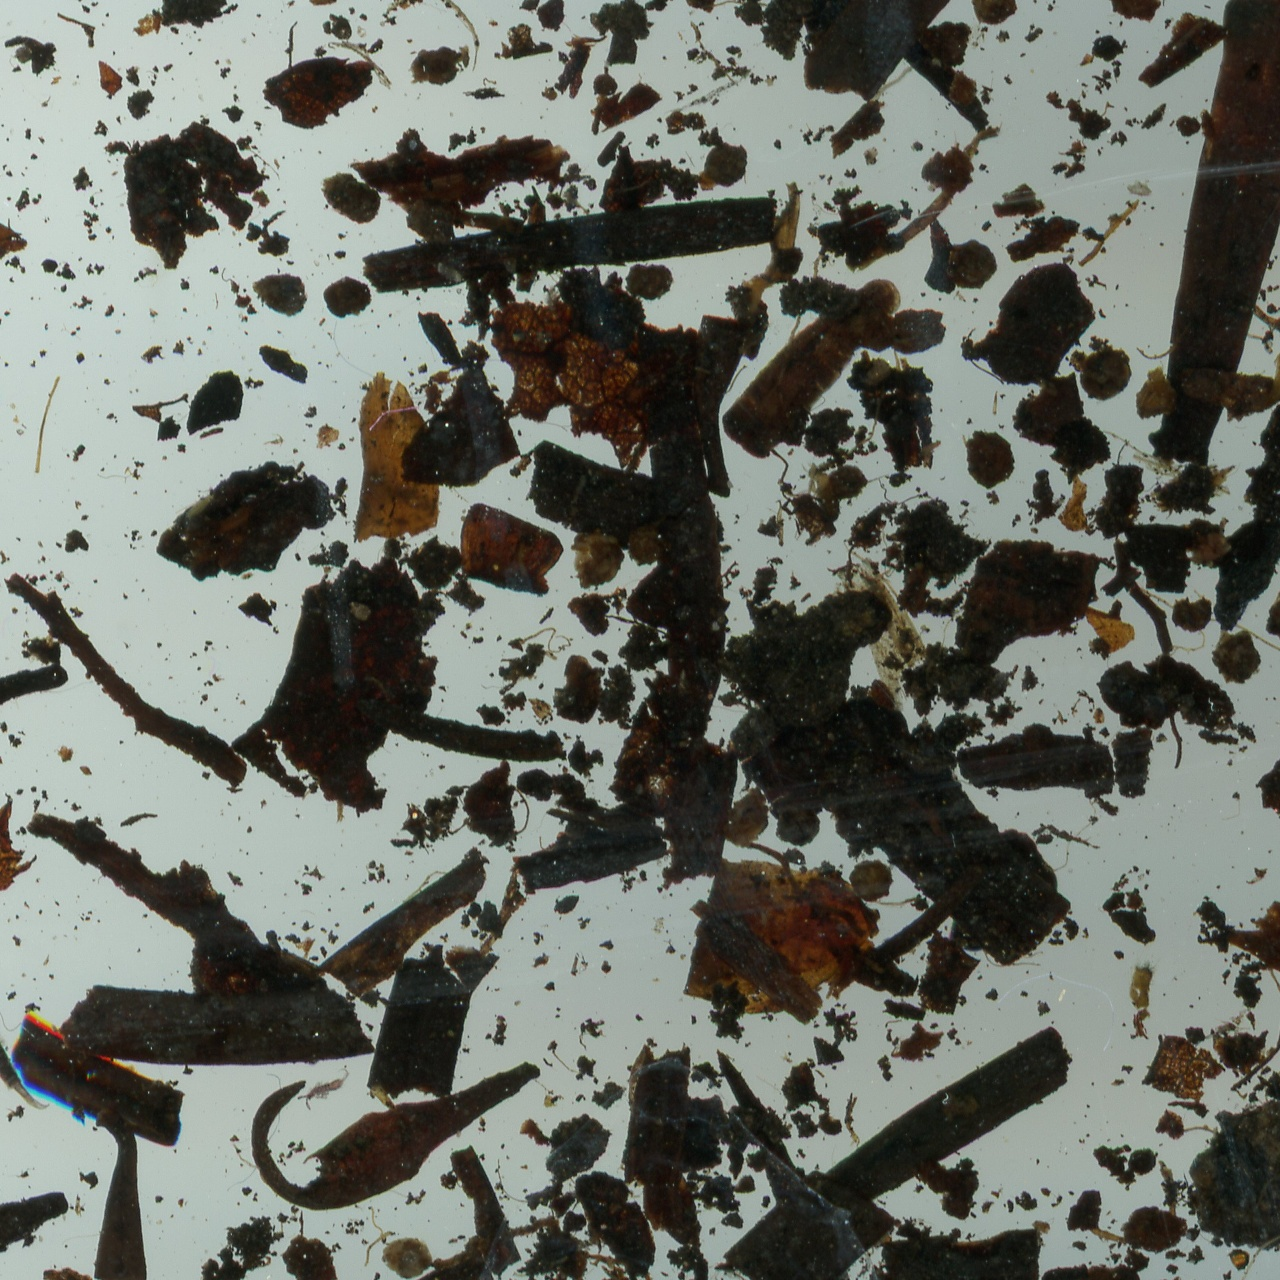arthropod: (0, 996, 48, 1114), (295, 1064, 360, 1107)
